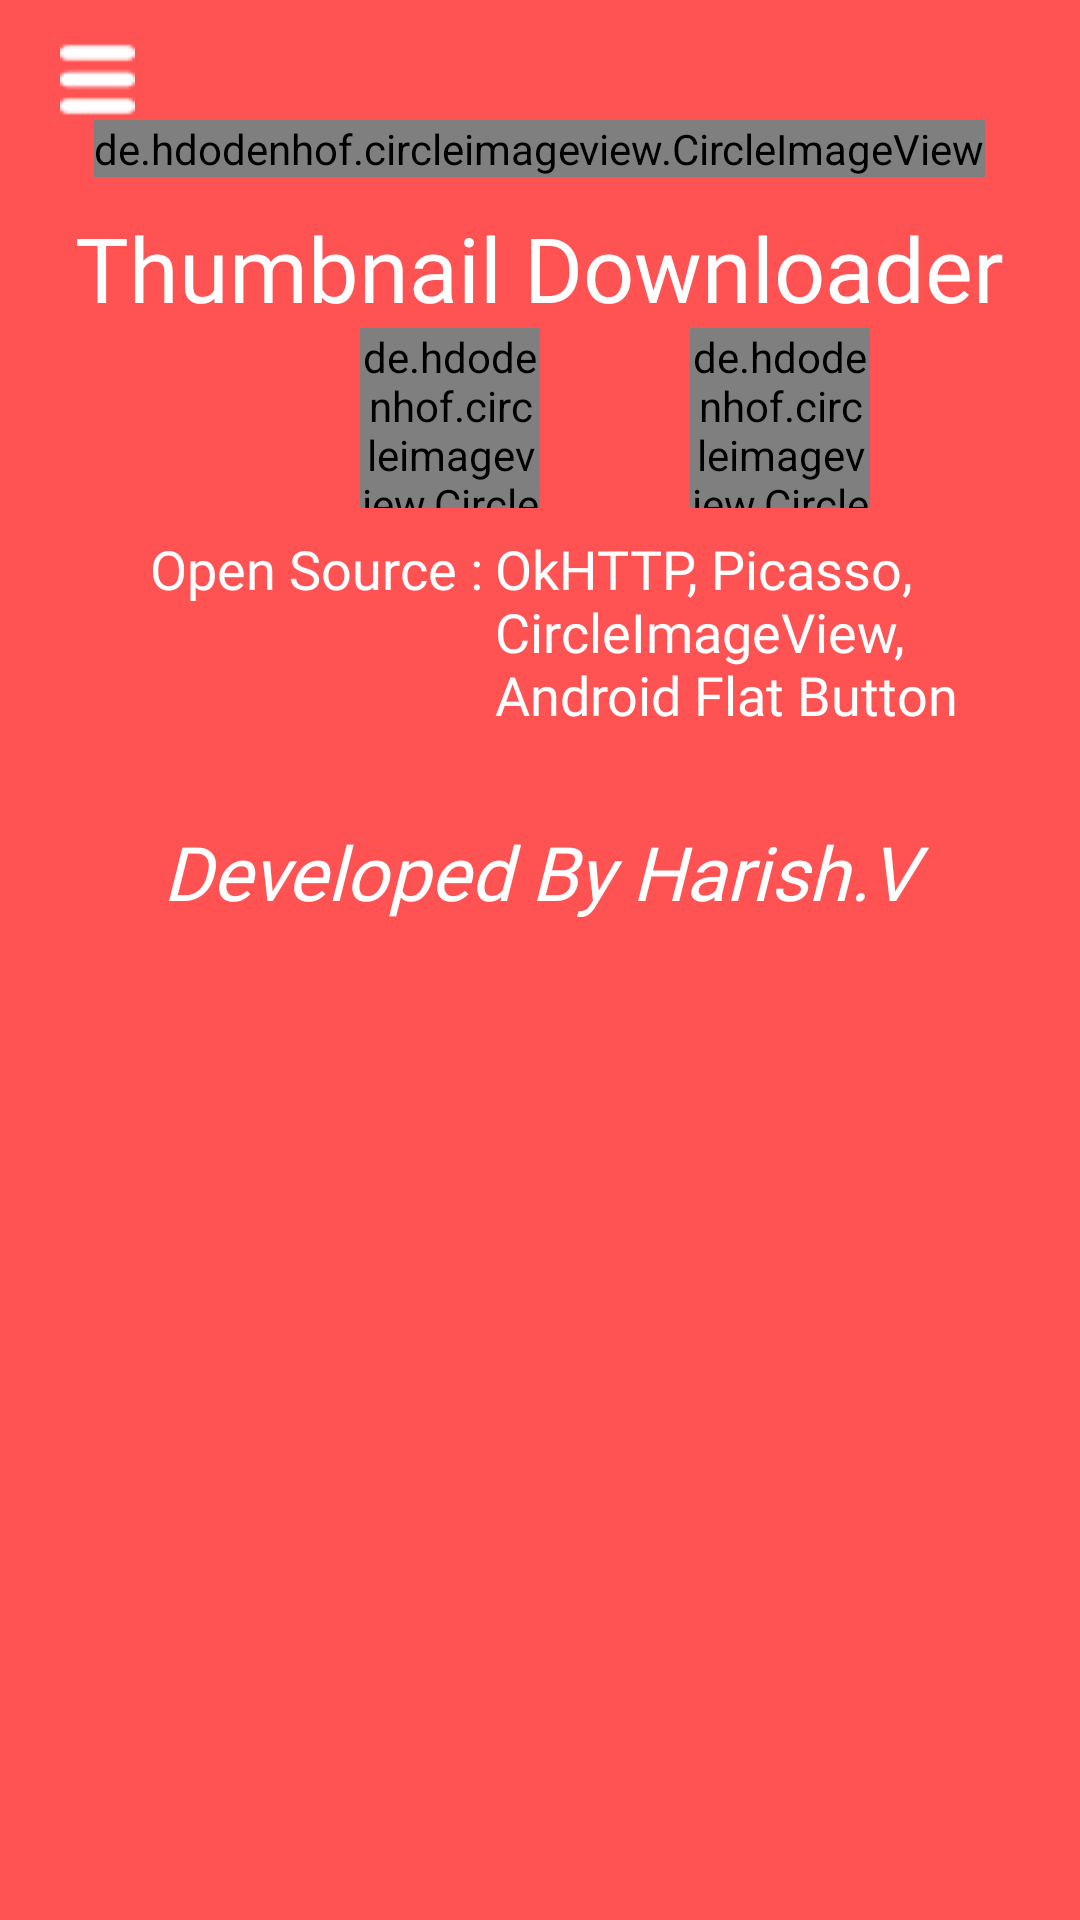

Where to tap for icons on this 1080 × 1920 app screen, as (x,y):
menu: (97,79)
